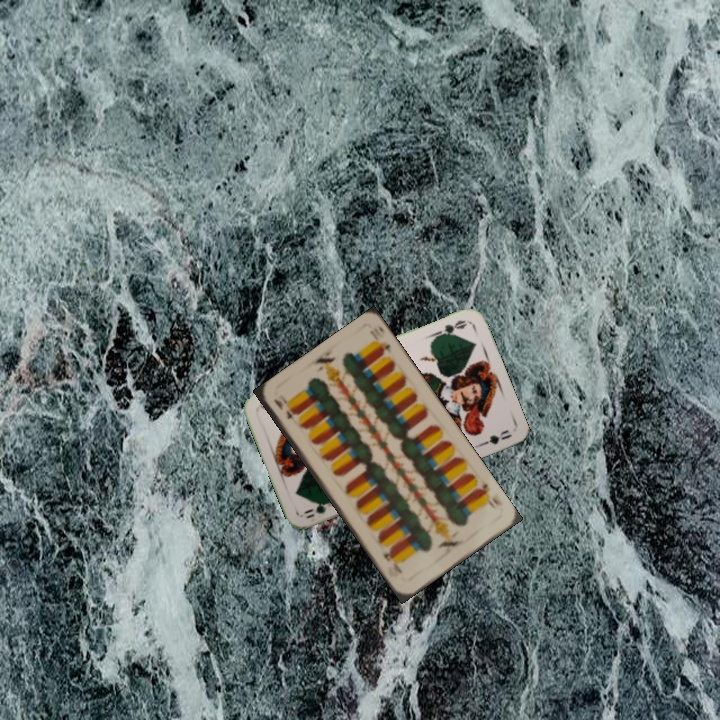E10: (473, 479, 505, 512), (269, 394, 297, 422)
GO: (300, 496, 339, 521), (431, 316, 470, 341)
